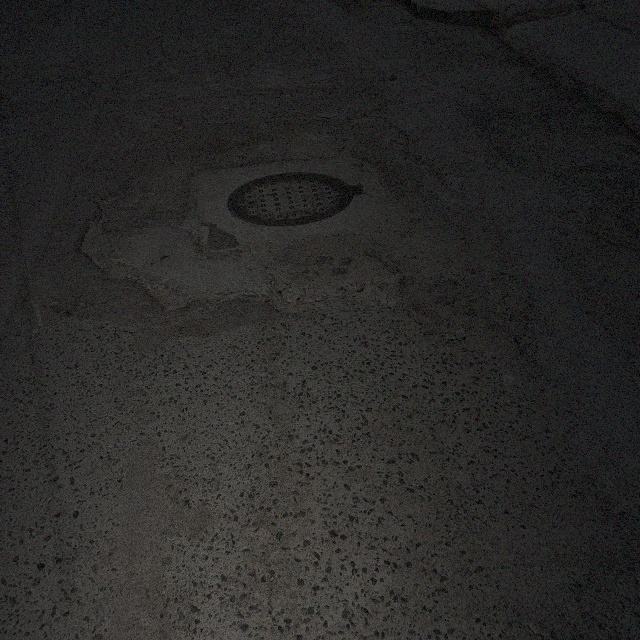pothole: (280, 250, 405, 316), (452, 305, 526, 387), (74, 213, 134, 285), (264, 271, 322, 312), (140, 272, 203, 308), (592, 193, 632, 246), (370, 108, 406, 150)
